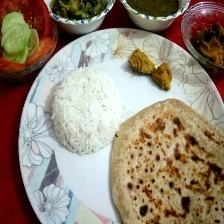roti: (109, 98, 224, 224)
